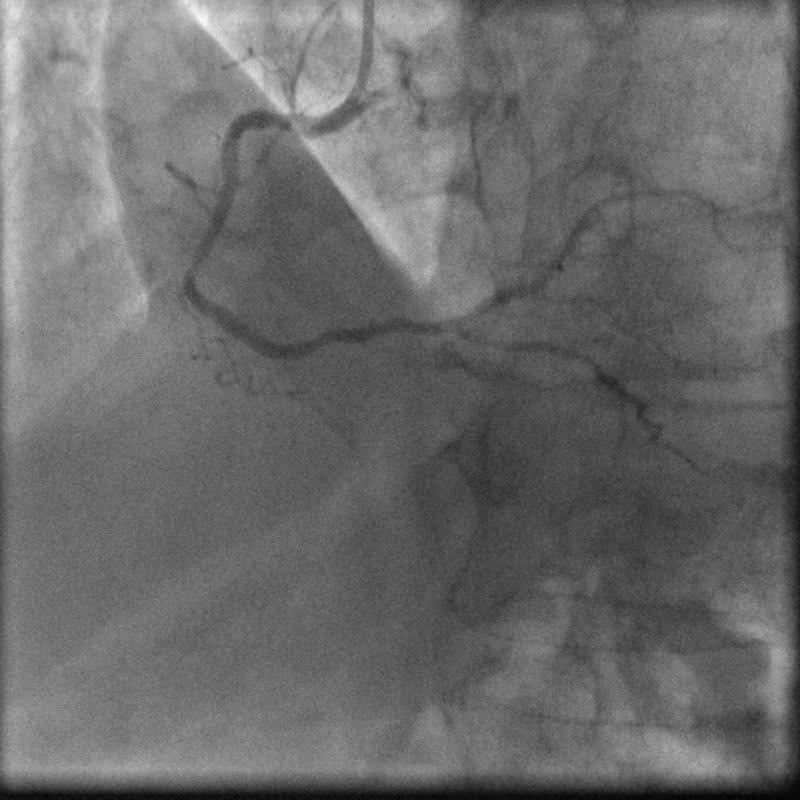Stenosis: (183, 251, 208, 278)
